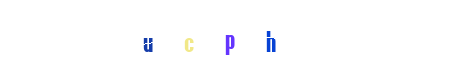C: (177, 0, 257, 80)
H: (185, 0, 265, 80)
P: (183, 0, 263, 80)
U: (148, 0, 228, 80)
